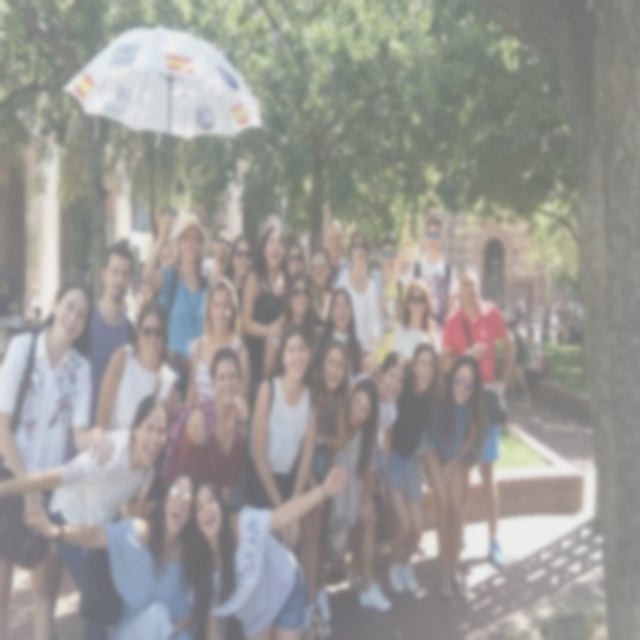pessoa: (0, 388, 176, 638), (0, 273, 118, 639), (176, 461, 352, 639), (18, 468, 197, 638), (437, 264, 517, 574), (243, 318, 322, 566), (372, 340, 442, 595), (415, 352, 484, 602), (298, 336, 353, 639), (156, 344, 249, 510), (138, 210, 214, 408), (332, 372, 394, 614), (92, 296, 180, 450), (84, 240, 140, 432), (183, 273, 253, 425), (360, 350, 408, 530), (239, 222, 293, 376), (334, 227, 381, 376), (404, 211, 461, 330), (262, 270, 318, 382), (368, 234, 410, 367), (313, 285, 363, 380), (391, 276, 444, 362), (508, 324, 547, 404), (306, 242, 336, 340), (222, 231, 257, 313), (539, 295, 585, 349), (322, 216, 354, 286), (200, 222, 233, 286), (65, 256, 102, 296), (282, 240, 308, 292), (498, 292, 532, 329), (121, 285, 153, 323), (506, 317, 529, 367), (23, 282, 42, 329), (6, 302, 24, 342), (157, 237, 176, 268), (26, 306, 46, 334), (0, 278, 12, 318), (208, 237, 218, 265), (484, 290, 494, 312)
